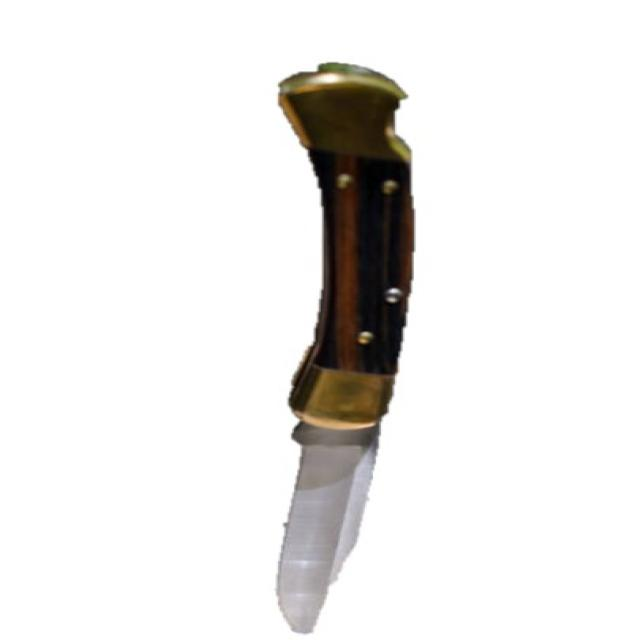knife: (257, 60, 416, 640)
